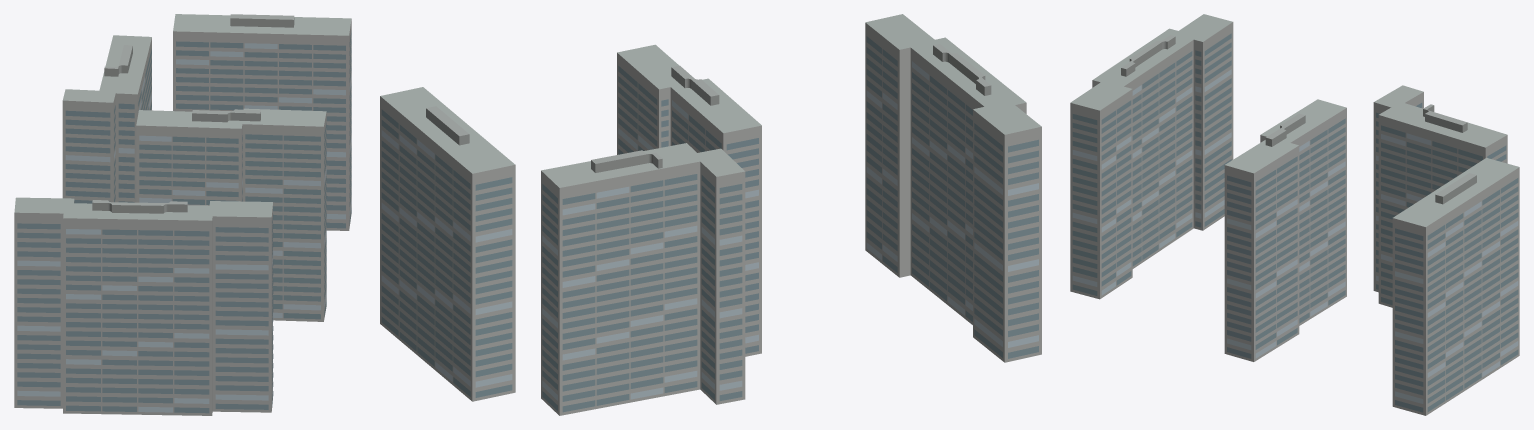
The model's file is apt-a14003006.glb.
3 renders of one model, left to right at view 1: azimuth 30°, elevation 25°; view 2: azimuth 150°, elevation 25°; view 3: azimuth 270°, elevation 25°, orthographic. The views are drawn at different scales.
Parts seen in each view (by area): view 1: apt-a14003006; view 2: apt-a14003006; view 3: apt-a14003006.
Boxes of the visible parts, left/top/right/bottom form: apt-a14003006: left=14, top=14, right=351, bottom=415; apt-a14003006: left=380, top=14, right=1041, bottom=415; apt-a14003006: left=1070, top=14, right=1519, bottom=415.
Bounding box in the file's own units: 144 × 62 × 129.
